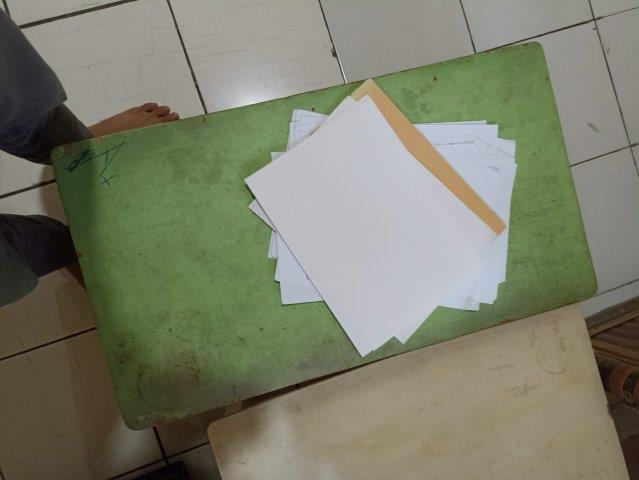kertas: (245, 78, 519, 358)
